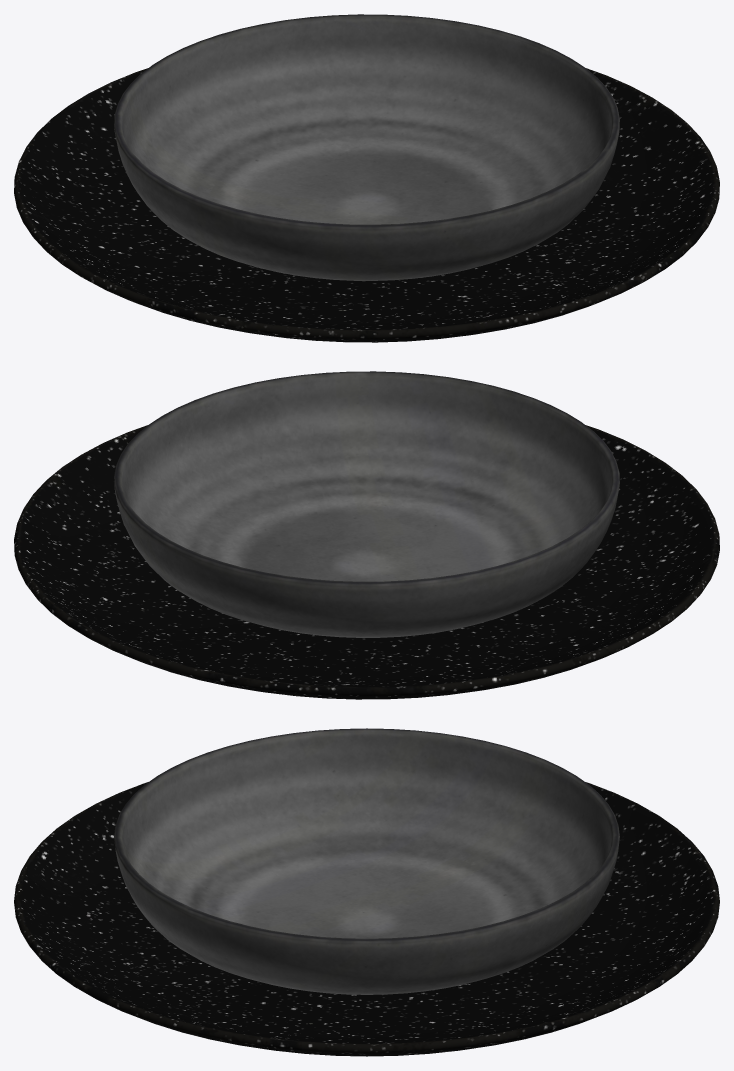
File: plate.obj
The picture shows the model from 3 angles, top to bottom: view 1: azimuth 30°, elevation 25°; view 2: azimuth 150°, elevation 25°; view 3: azimuth 270°, elevation 25°; orthographic projection.
Visible parts, largest first — view 1: PLATES; view 2: PLATES; view 3: PLATES.
Boxes of the visible parts, bbox=[...] form: PLATES: bbox=[14, 14, 719, 342]; PLATES: bbox=[14, 371, 719, 699]; PLATES: bbox=[14, 728, 719, 1056].
Bounding box in the file's own units: 0.3342 × 0.0632 × 0.3342.
